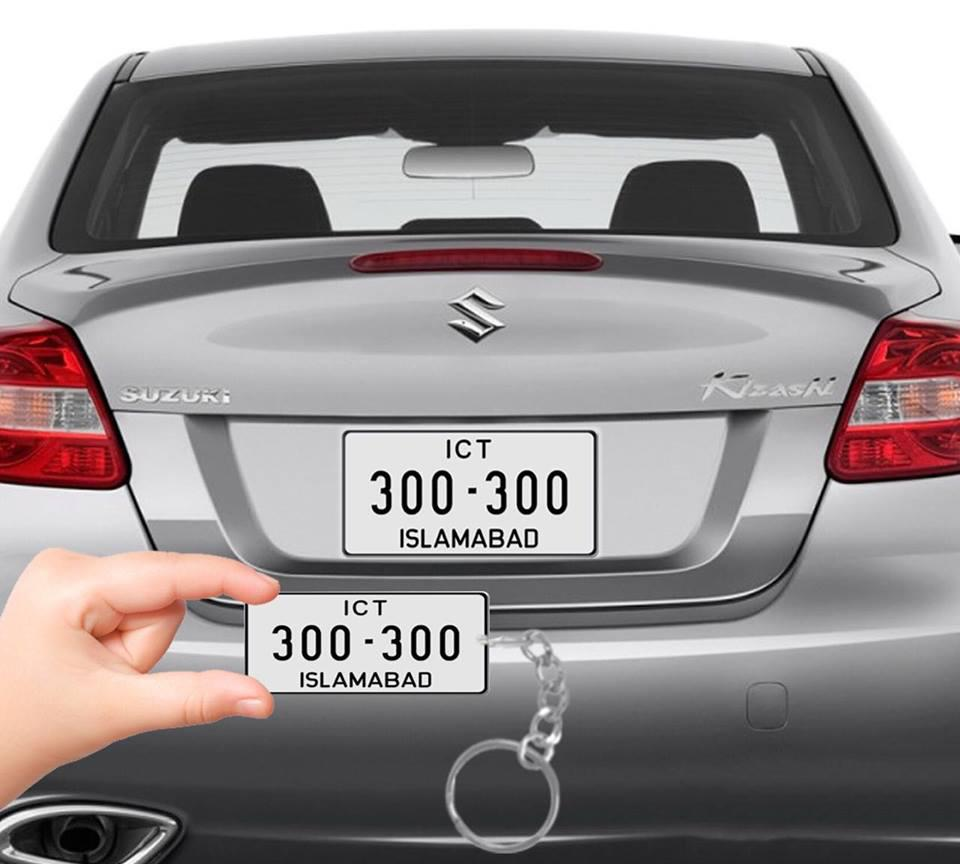plate: (337, 425, 604, 559), (240, 588, 492, 699)
